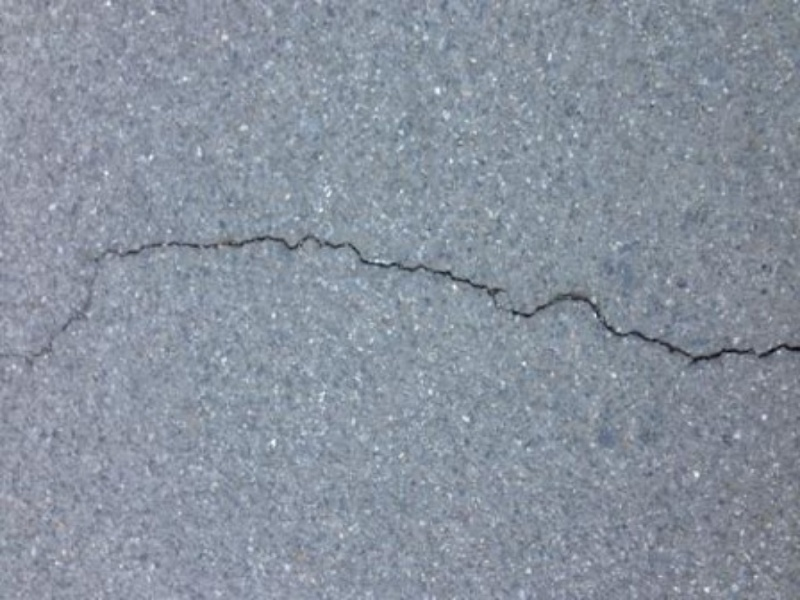crack: (10, 221, 797, 415)
